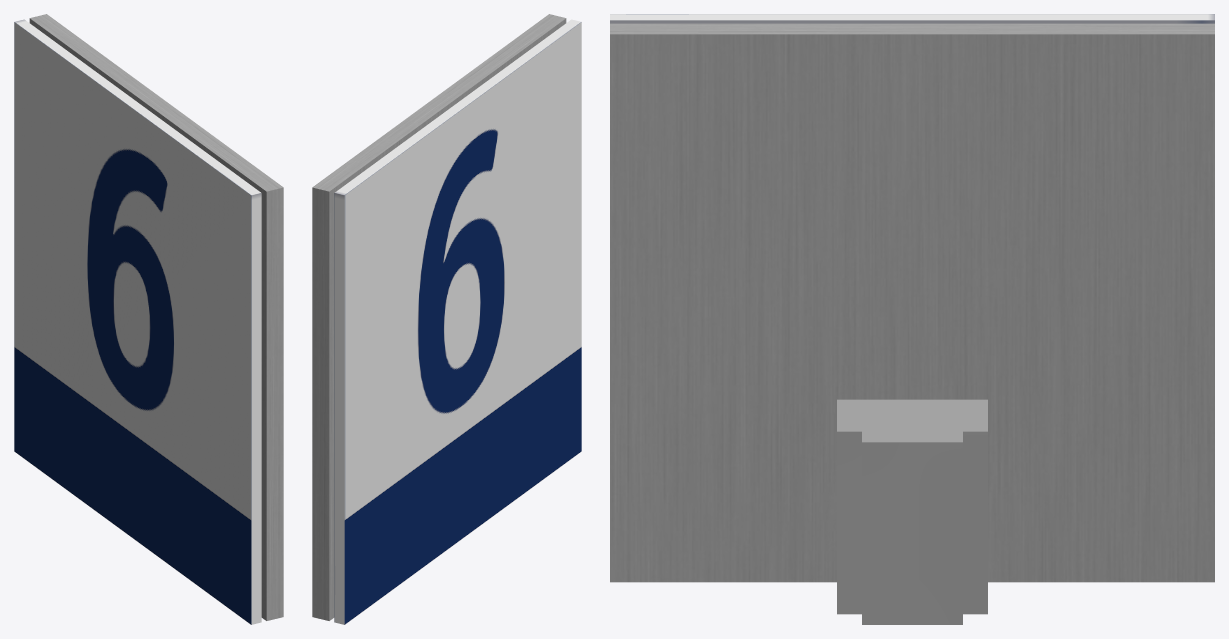
File: scotrail_platform_6.obj
The picture shows the model from 3 angles, left to right: view 1: azimuth 30°, elevation 25°; view 2: azimuth 150°, elevation 25°; view 3: azimuth 270°, elevation 25°; orthographic projection. The views are drawn at different scales.
Parts seen in each view (by area): view 1: cube; view 2: cube; view 3: cube.
Part boxes in pixels (x1,y1,x2,y2): cube: [14, 14, 283, 624]; cube: [312, 14, 581, 624]; cube: [610, 14, 1214, 624].
Size of the model in its own units: 0.0922 by 0.375 by 0.375.
Materials: 2 (2 with a texture image).
